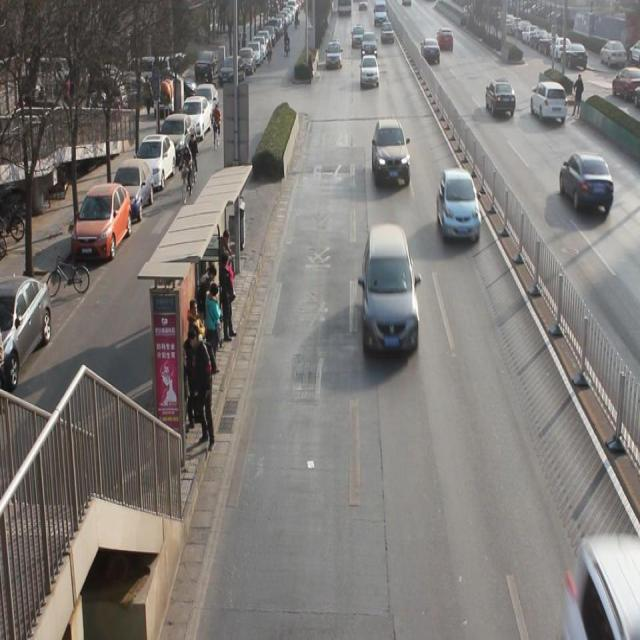car: (361, 229, 421, 361), (561, 150, 614, 222), (438, 172, 483, 248), (373, 123, 411, 186), (532, 81, 568, 129), (486, 82, 516, 121), (360, 58, 381, 89), (420, 40, 442, 69), (325, 44, 343, 75), (436, 28, 455, 56), (351, 26, 366, 53), (362, 34, 377, 58)
